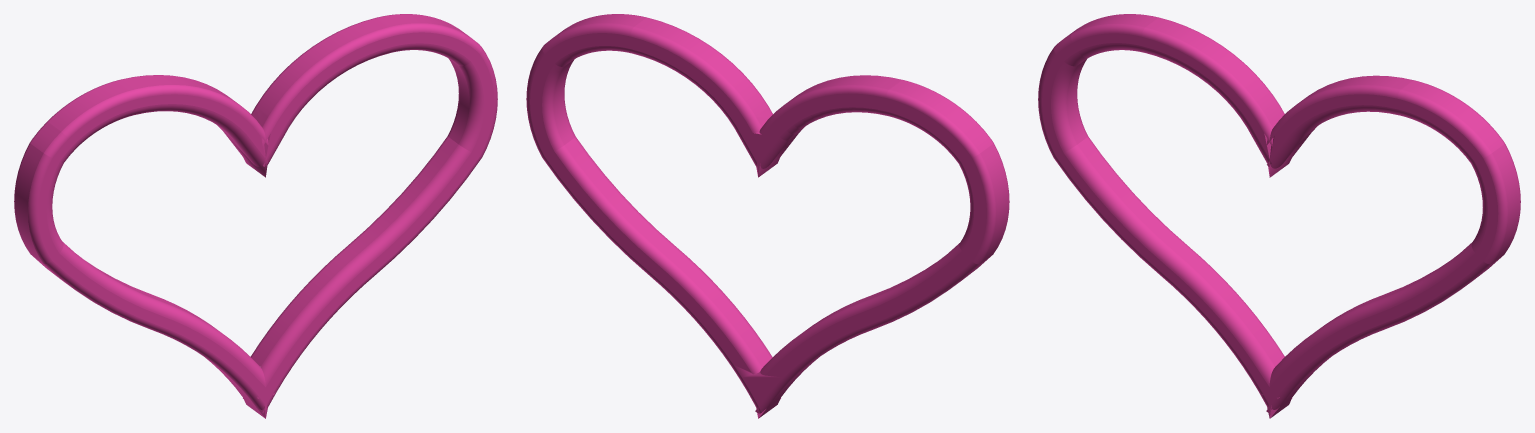
File: HEART1.obj
3 renders of one model, left to right at view 1: azimuth 30°, elevation 25°; view 2: azimuth 150°, elevation 25°; view 3: azimuth 330°, elevation 25°, orthographic.
Visible parts, largest first — view 1: Mesh1 Model; view 2: Mesh1 Model; view 3: Mesh1 Model.
Part boxes in pixels (x1,y1,x2,y2): Mesh1 Model: (14,14,497,418); Mesh1 Model: (526,14,1009,418); Mesh1 Model: (1038,14,1520,418).
Size of the model in its own units: 347 by 253 by 24.94.
